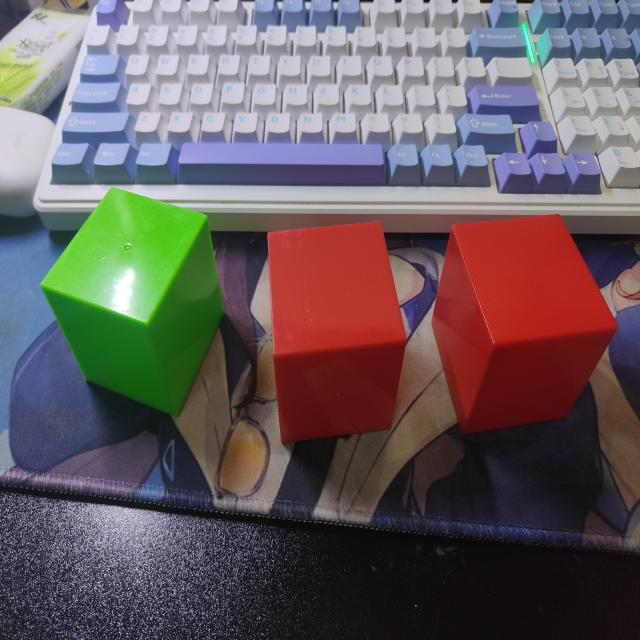green: (41, 184, 226, 423)
red: (430, 212, 622, 434), (269, 215, 409, 446)
